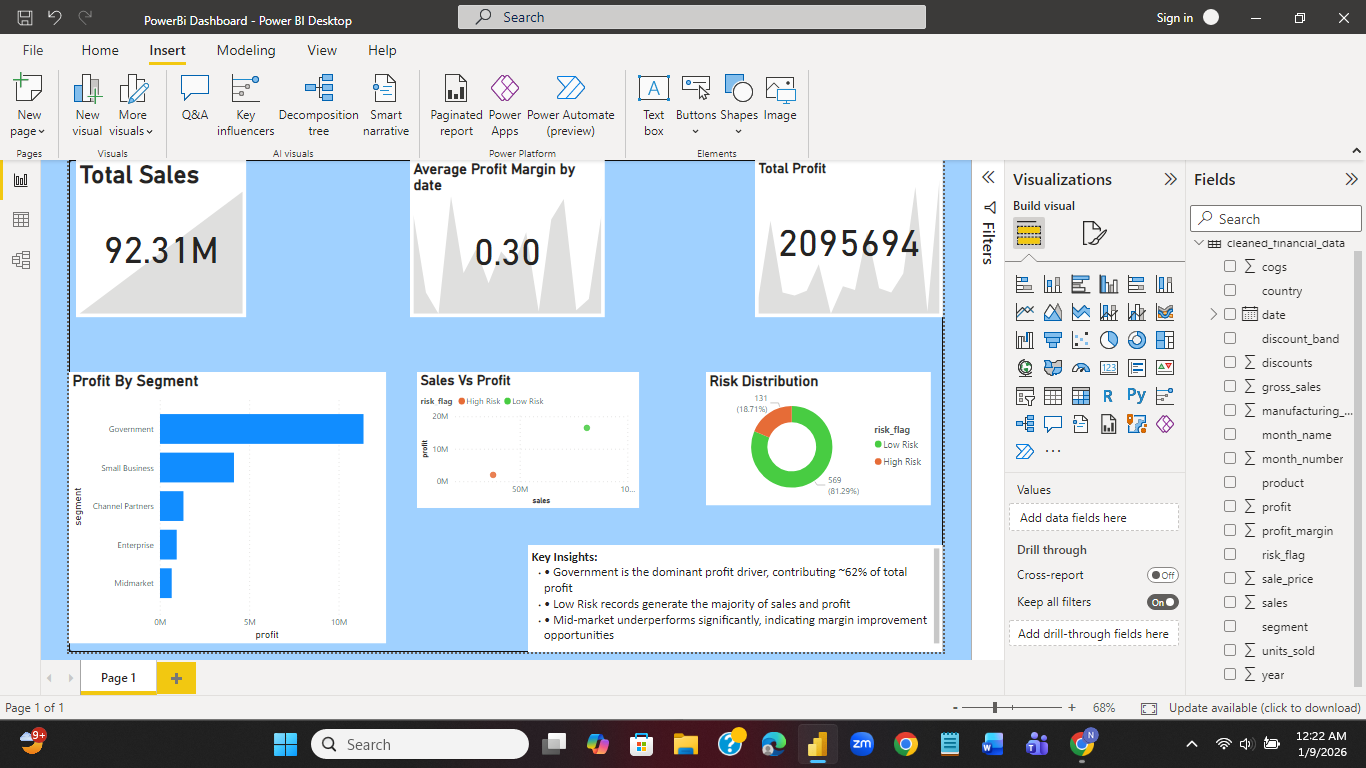

This screenshot's page, from the dashboard's own definition file:
{"tool":"powerbi","page":{"name":"Page 1","canvas":[1280,720],"ordinal":0},"visuals":[{"type":"kpi","title":"Total Profit","fields":{"Indicator":["Sum(cleaned_financial_data.profit)"],"TrendLine":["cleaned_financial_data.date"]},"box":[1003.9,0,275.1,229.8],"z":0},{"type":"kpi","title":"Total Sales","fields":{"Indicator":["Sum(cleaned_financial_data.sales)"],"TrendLine":["cleaned_financial_data.year"]},"box":[10.2,0,248.8,229.8],"z":1000},{"type":"kpi","title":"Average Profit Margin by date","fields":{"Indicator":["Avg(cleaned_financial_data.profit_margin)"],"TrendLine":["cleaned_financial_data.date"]},"box":[499,0,285.4,229.8],"z":2000},{"type":"clusteredBarChart","title":"Profit By Segment","fields":{"Category":["cleaned_financial_data.segment"],"Y":["Sum(cleaned_financial_data.profit)"]},"box":[0,310.2,463.9,396.6],"z":3000},{"type":"donutChart","title":"Risk Distribution","fields":{"Category":["cleaned_financial_data.risk_flag"],"Y":["CountNonNull(cleaned_financial_data.cogs)"]},"box":[932.2,310.2,329.3,194.6],"z":4000},{"type":"scatterChart","title":"Sales Vs Profit","fields":{"X":["Sum(cleaned_financial_data.sales)"],"Y":["Sum(cleaned_financial_data.profit)"],"Series":["cleaned_financial_data.risk_flag"]},"box":[509.3,310.2,324.9,199],"z":5000},{"type":"textbox","box":[671.7,563.4,607.3,156.6],"z":6000}]}

Visuals, with their boxes on the page's 1280x720 design canvas (x1, y1, x2, y2). These are canvas units, not pixel positions in the 1366x768 screenshot, which may show the page scaled, cropped or inside an application window:
"Total Profit" kpi: 1004:0:1279:230
"Total Sales" kpi: 10:0:259:230
"Average Profit Margin by date" kpi: 499:0:784:230
"Profit By Segment" clusteredBarChart: 0:310:464:707
"Risk Distribution" donutChart: 932:310:1262:505
"Sales Vs Profit" scatterChart: 509:310:834:509
textbox: 672:563:1279:720
